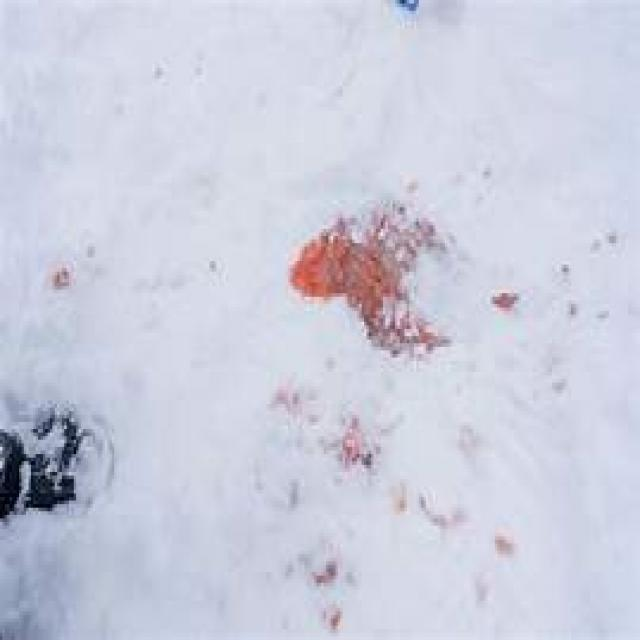wound: (249, 183, 491, 366)
